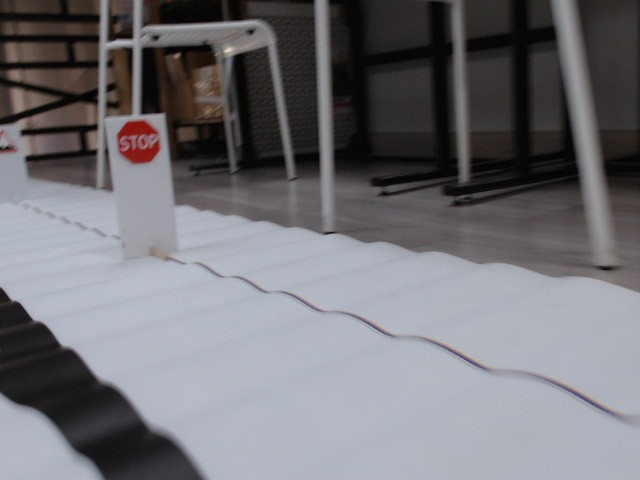Stop: (116, 121, 163, 164)
